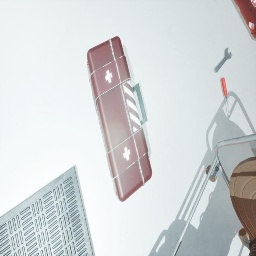FirstAidBox ,: (87, 36, 152, 202)
NitrogenTank ,: (234, 0, 256, 38)
